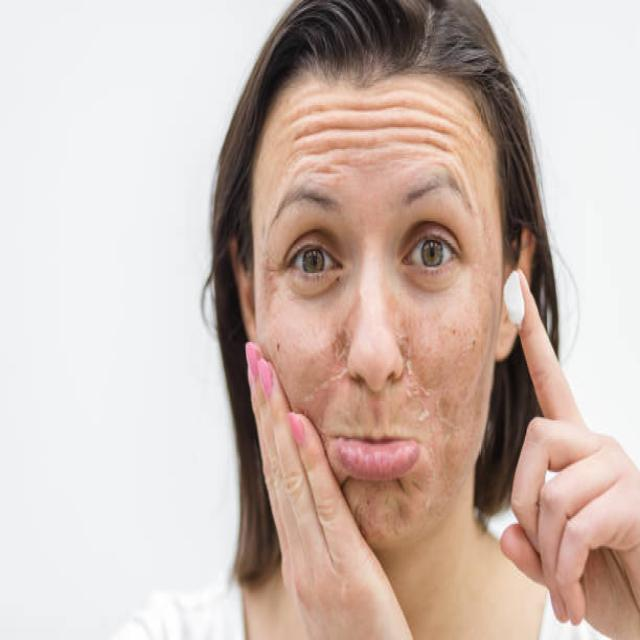Dry-Skin: (402, 298, 564, 490), (293, 92, 460, 202), (252, 300, 444, 385)
